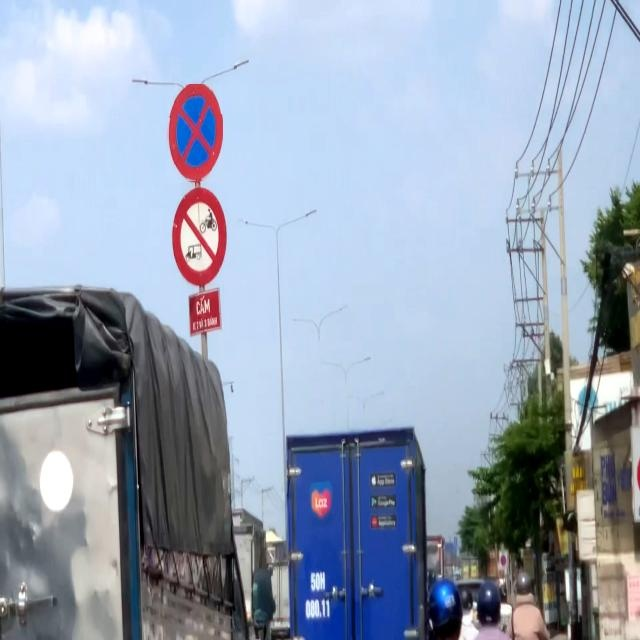bien_cam: (167, 84, 223, 183)
